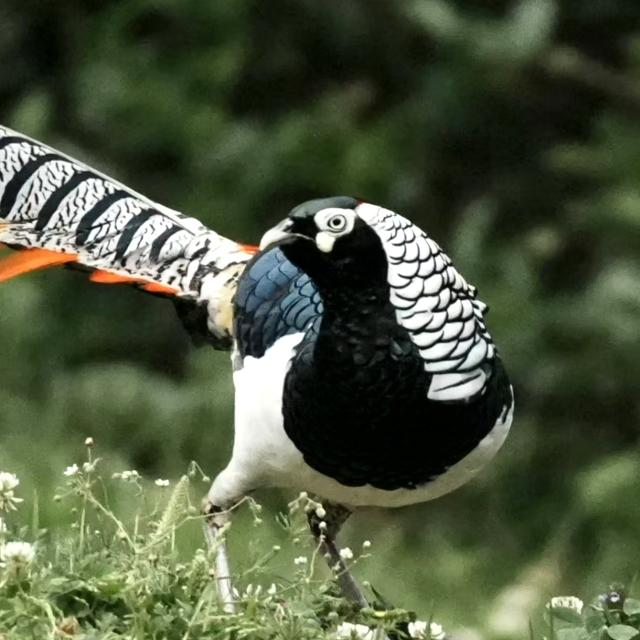Chrysolophus amherstiae: (0, 125, 257, 338)
